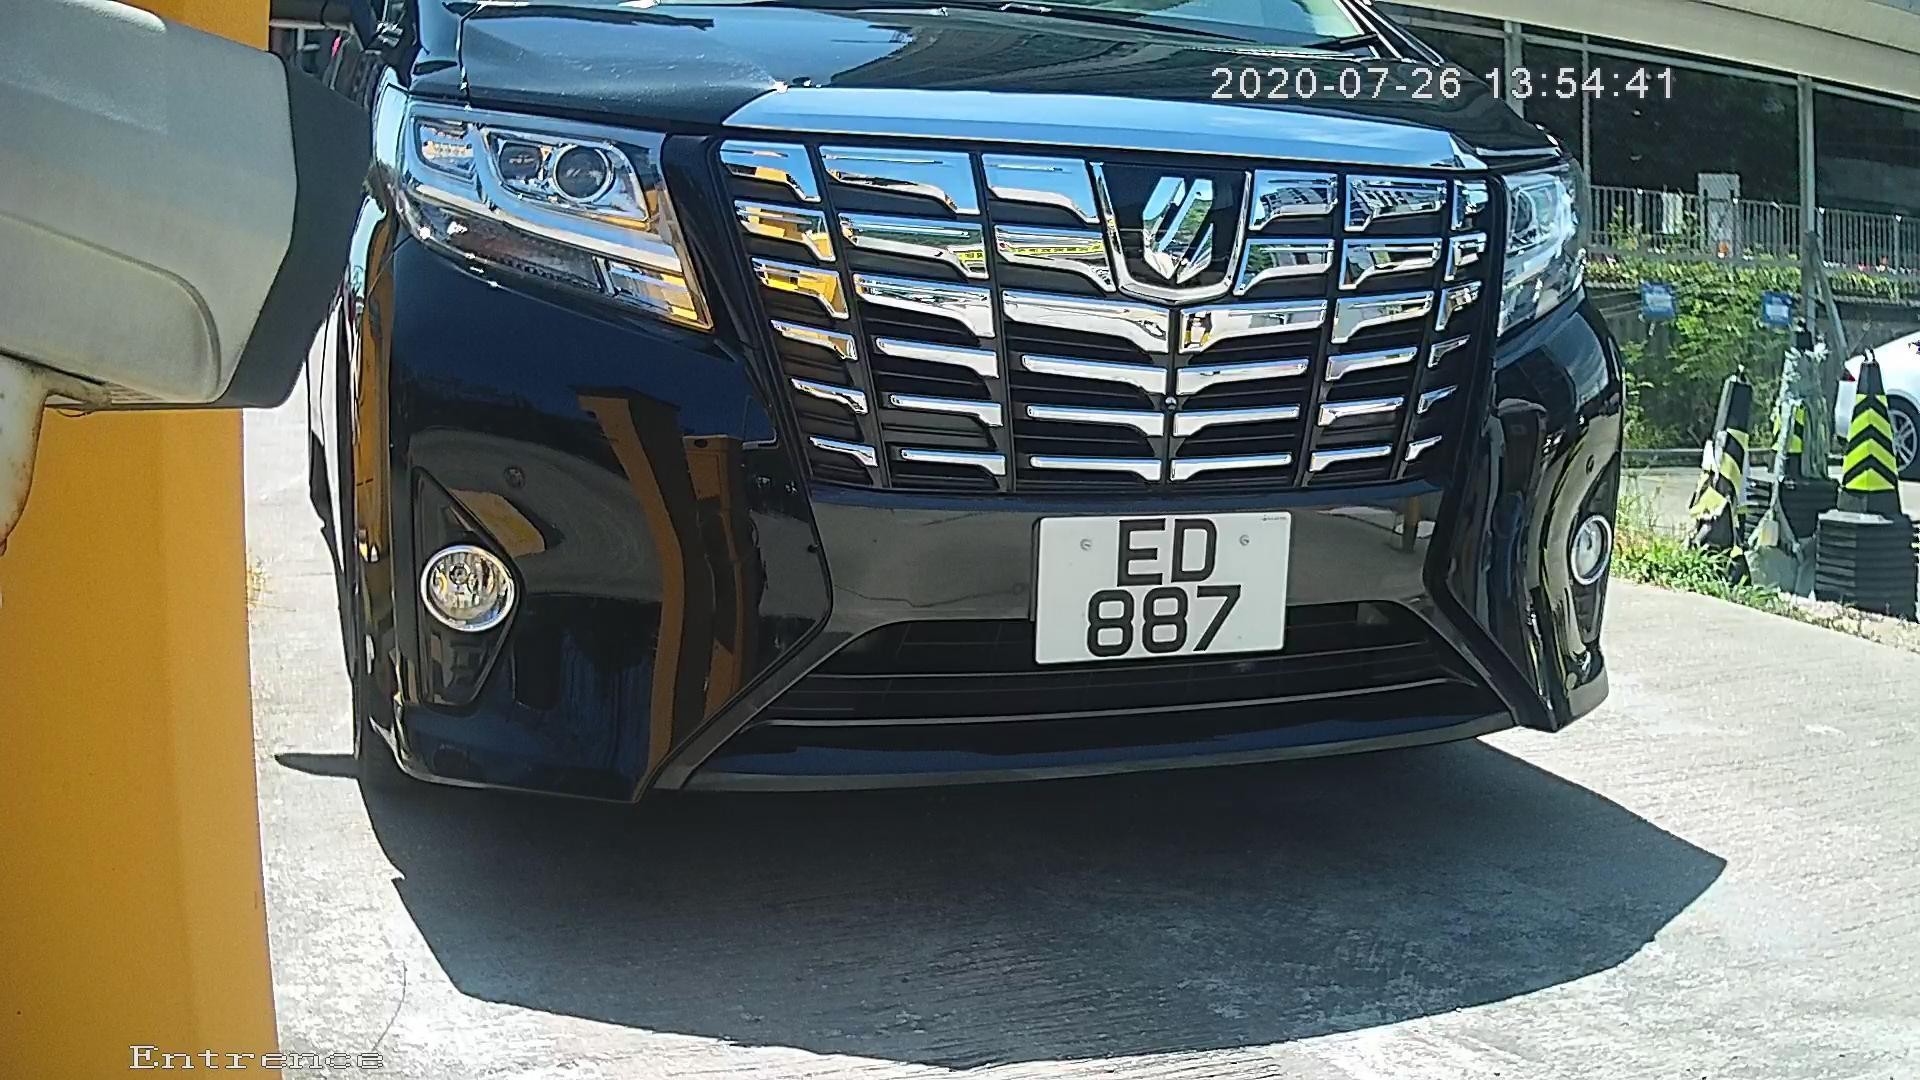privatecar: (215, 1, 1663, 949)
